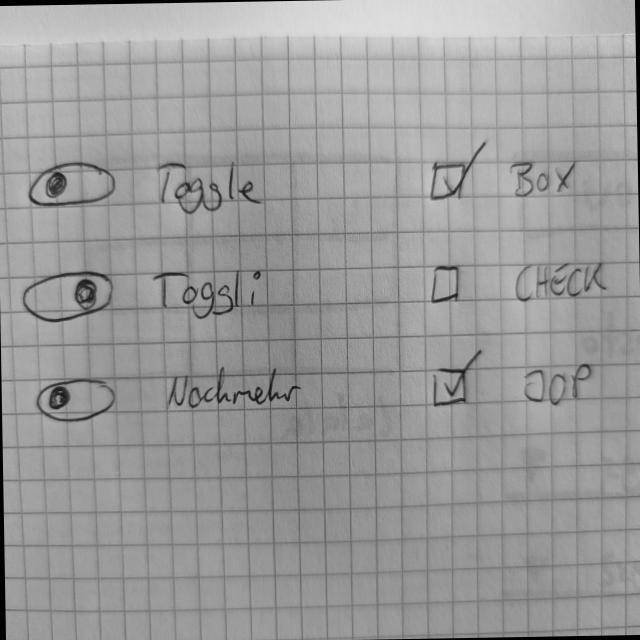checkbox: (430, 343, 598, 413), (430, 138, 582, 204), (426, 257, 613, 309)
label: (163, 360, 305, 417), (149, 265, 272, 324), (152, 156, 265, 219)
toggle: (20, 267, 118, 327), (27, 159, 120, 211), (35, 375, 122, 425)
